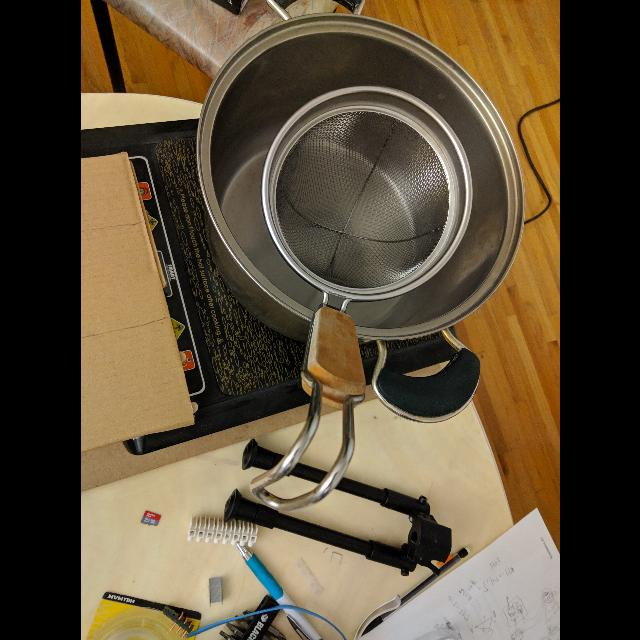Handle: (238, 305, 374, 523)
Strainer: (259, 83, 471, 310)
